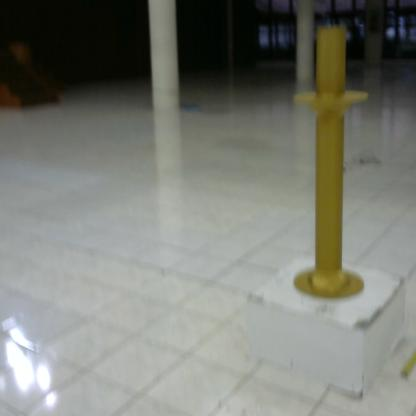pole: (288, 19, 377, 305)
